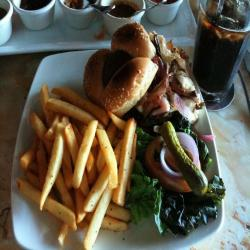burger: (83, 21, 202, 126)
fries: (17, 93, 135, 231)
salad: (136, 182, 214, 229)
